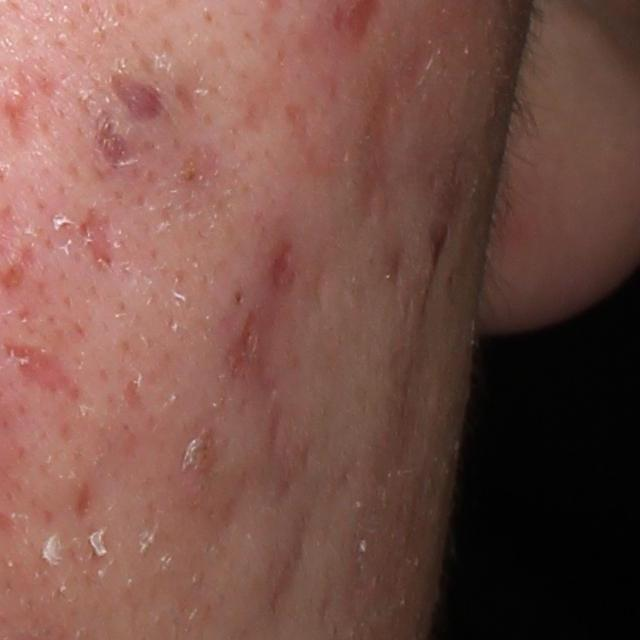atrophic_scar: (342, 54, 413, 215), (250, 236, 298, 446), (104, 76, 170, 129), (77, 206, 116, 276), (176, 82, 202, 122), (75, 472, 95, 522), (122, 371, 140, 412)
